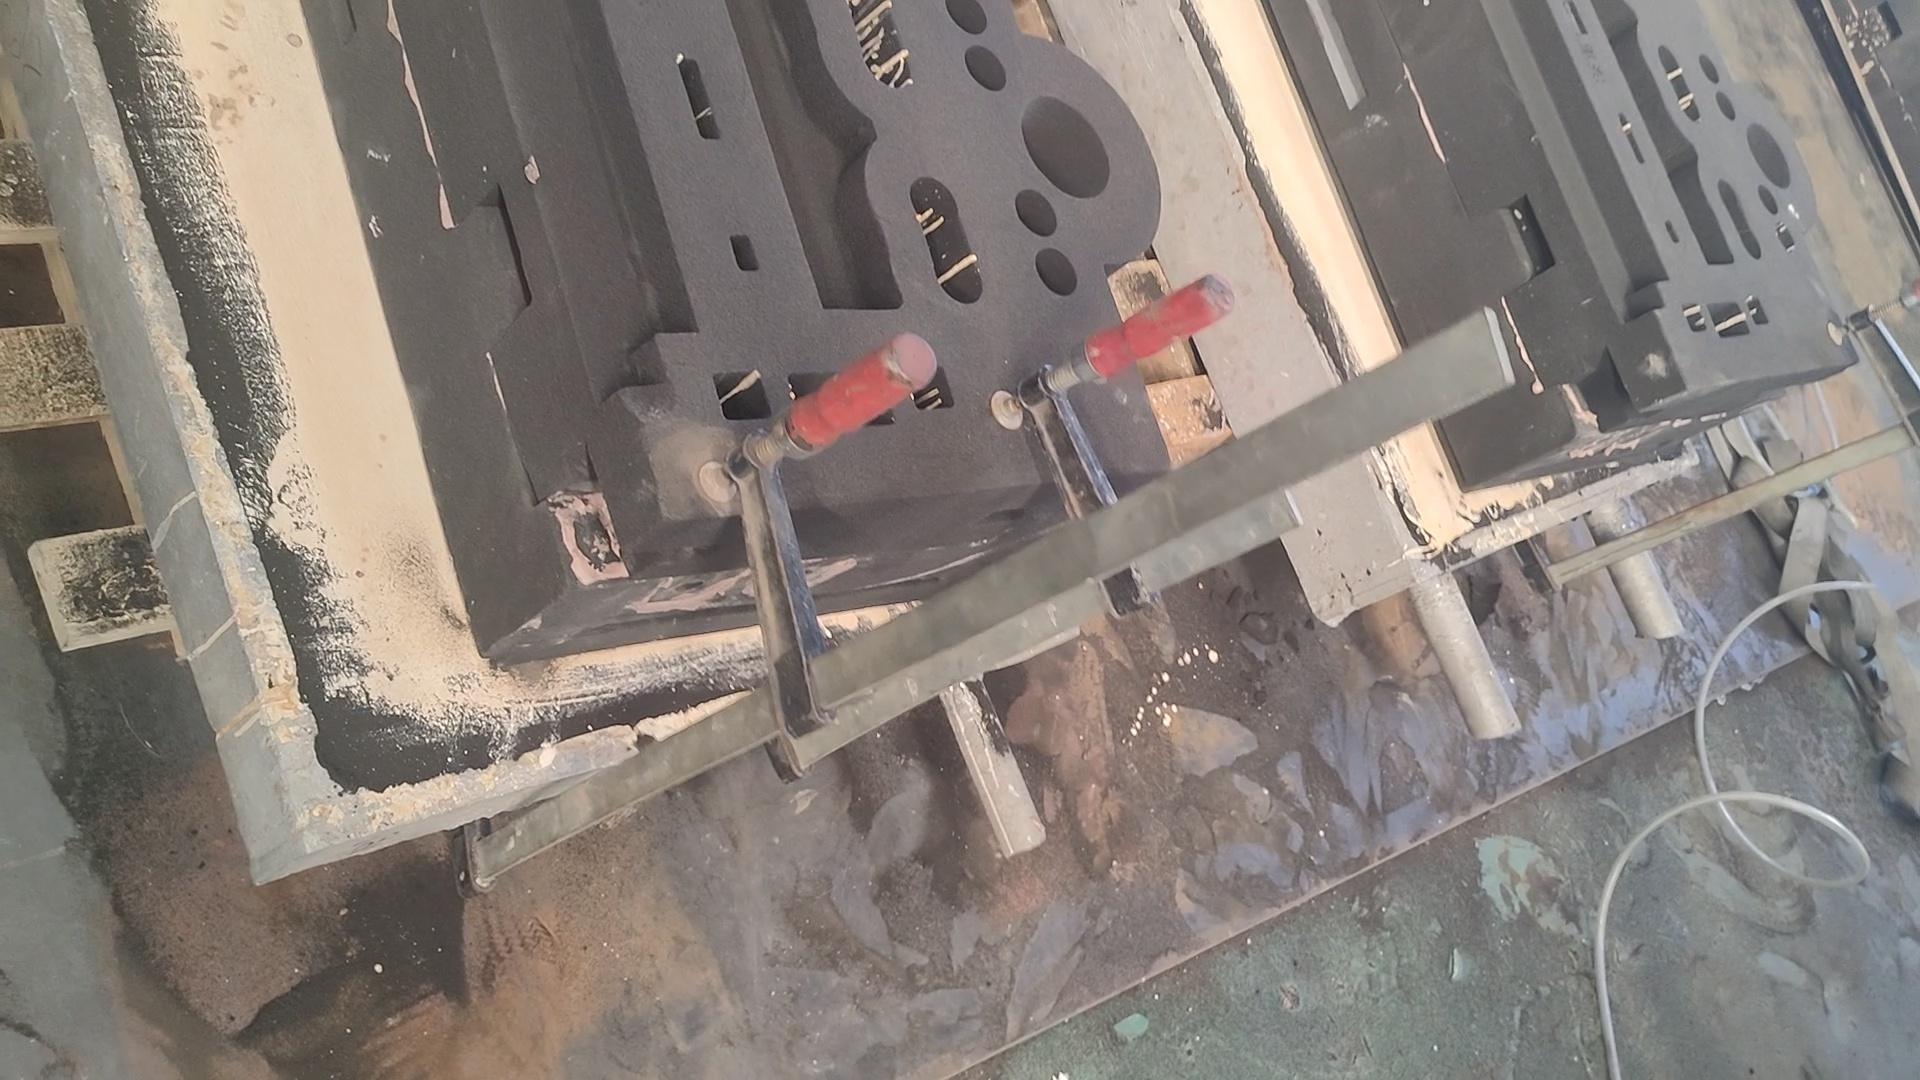pouring hole: (1021, 95, 1110, 199), (1746, 123, 1791, 190)
